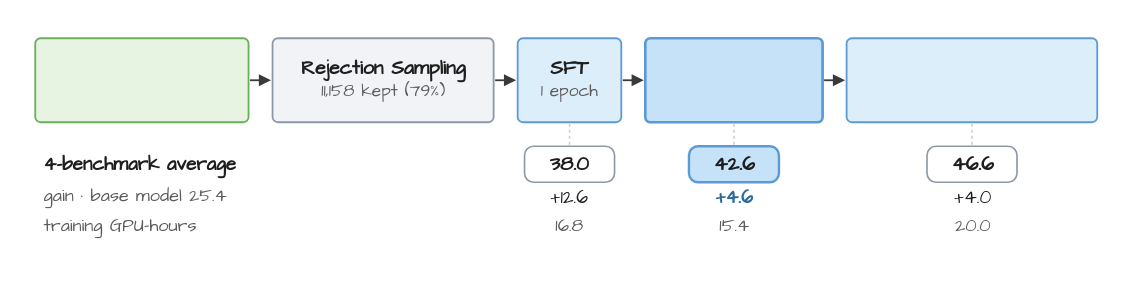
Some shapes in this 1131 by 297 pixel diagram are drawn without their labels. Each missing label, with the box of its shape:
GRPO on Failures 2,212 problems · 30 steps: (845, 37, 1097, 122)
Scaffold-OPD 40 steps: (643, 36, 823, 123)
Teacher Solutions 14,116 problems: (34, 37, 249, 122)
